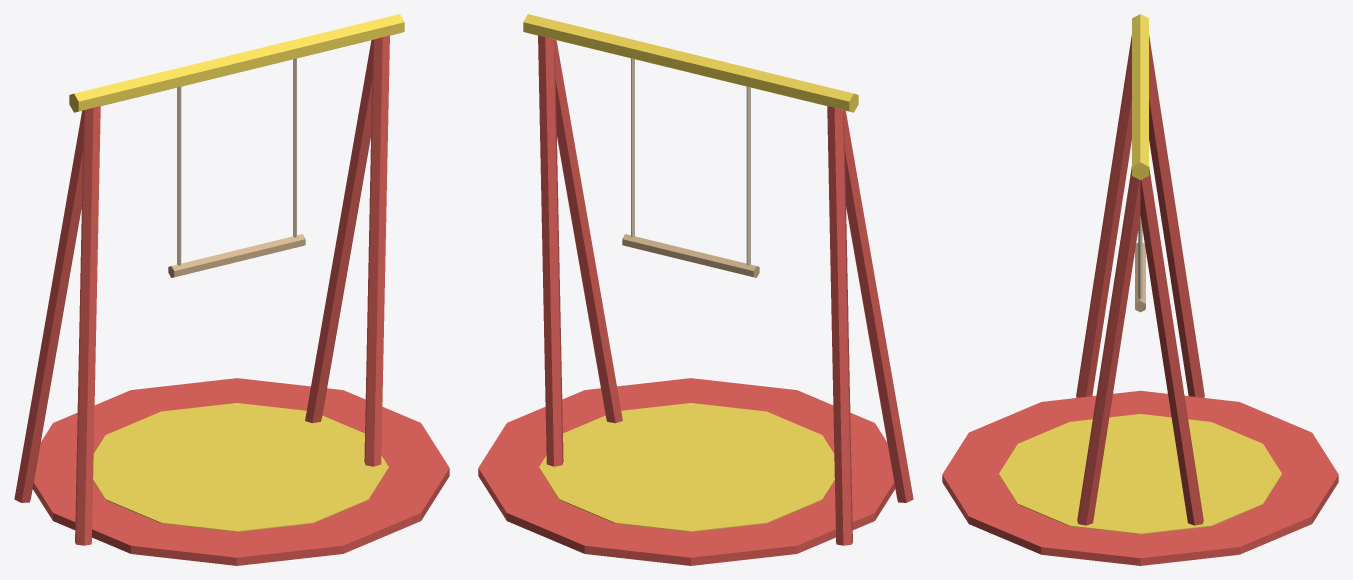
Rendered from trapez.glb.
The picture shows the model from 3 angles, left to right: view 1: azimuth 30°, elevation 25°; view 2: azimuth 150°, elevation 25°; view 3: azimuth 270°, elevation 25°; orthographic projection. The views are drawn at different scales.
Parts seen in each view (by area): view 1: gelb_9, rot_8, rot_1, rot_3, gelb_4, rot_0, rot_2, holz_hell_7, seil_5, seil_6; view 2: gelb_9, rot_8, rot_0, rot_2, gelb_4, rot_1, rot_3, holz_hell_7, seil_5, seil_6; view 3: rot_8, gelb_9, rot_2, rot_3, rot_0, rot_1, gelb_4, holz_hell_7.
Boxes of the visible parts, left/top/right/bottom form: gelb_9: left=93, top=403, right=388, bottom=531; rot_8: left=32, top=378, right=449, bottom=565; rot_1: left=75, top=106, right=100, bottom=545; rot_3: left=364, top=35, right=389, bottom=466; gelb_4: left=69, top=14, right=404, bottom=112; rot_0: left=14, top=110, right=84, bottom=502; rot_2: left=305, top=39, right=373, bottom=423; holz_hell_7: left=168, top=234, right=305, bottom=277; seil_5: left=177, top=86, right=181, bottom=265; seil_6: left=293, top=58, right=296, bottom=237; gelb_9: left=539, top=403, right=834, bottom=531; rot_8: left=478, top=378, right=895, bottom=565; rot_0: left=827, top=106, right=852, bottom=545; rot_2: left=538, top=35, right=563, bottom=466; gelb_4: left=523, top=14, right=858, bottom=112; rot_1: left=843, top=110, right=913, bottom=502; rot_3: left=554, top=39, right=622, bottom=423; holz_hell_7: left=622, top=234, right=759, bottom=277; seil_5: left=746, top=86, right=750, bottom=265; seil_6: left=631, top=58, right=634, bottom=237; rot_8: left=942, top=390, right=1338, bottom=565; gelb_9: left=999, top=414, right=1281, bottom=534; rot_2: left=1140, top=166, right=1203, bottom=525; rot_3: left=1077, top=166, right=1140, bottom=525; rot_0: left=1149, top=35, right=1204, bottom=397; rot_1: left=1076, top=35, right=1131, bottom=397; gelb_4: left=1132, top=14, right=1148, bottom=180; holz_hell_7: left=1135, top=243, right=1145, bottom=312.
Size of the model in its own units: 1.43 by 1.54 by 1.4.
